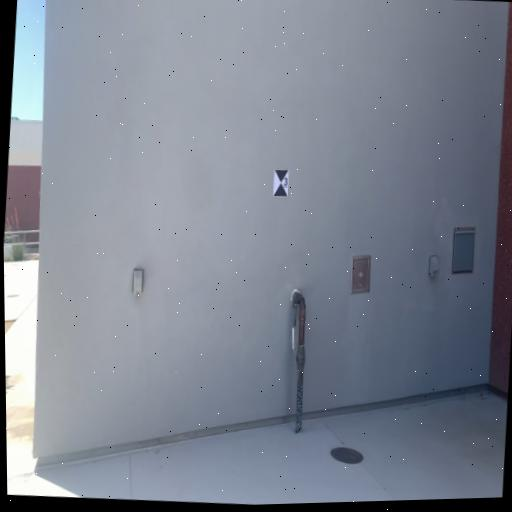target3: (273, 169, 289, 197)
